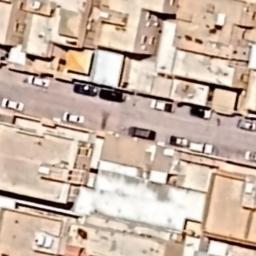pickup: (28, 74, 50, 88), (150, 98, 172, 112)
sedan: (2, 98, 24, 112), (74, 84, 98, 96), (100, 89, 122, 102), (64, 113, 84, 124), (238, 120, 256, 131), (170, 136, 188, 146)
truck: (190, 143, 213, 154), (192, 108, 210, 118)
unknown: (245, 150, 256, 160)
van: (129, 124, 158, 142)
